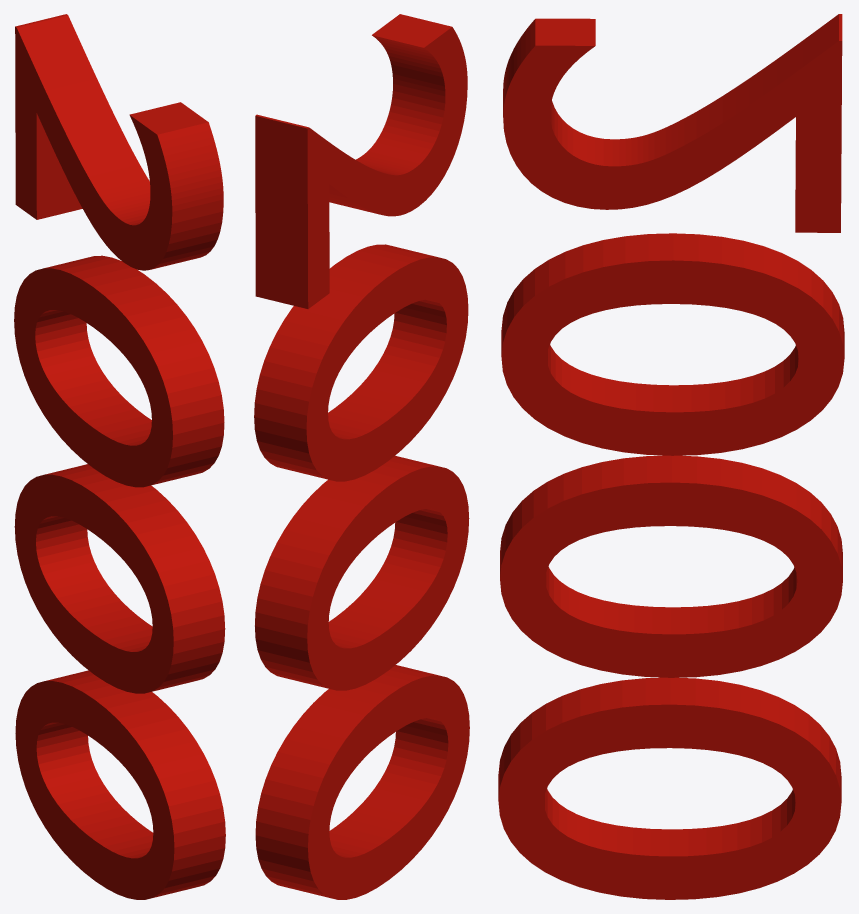
Rendered from artifact_2000.obj.
3 renders of one model, left to right at view 1: azimuth 30°, elevation 25°; view 2: azimuth 150°, elevation 25°; view 3: azimuth 270°, elevation 25°, orthographic. The views are drawn at different scales.
Parts seen in each view (by area): view 1: Text_Mesh.002; view 2: Text_Mesh.002; view 3: Text_Mesh.002.
Part boxes in pixels (left/top/right/bottom): Text_Mesh.002: left=14, top=14, right=225, bottom=899; Text_Mesh.002: left=254, top=14, right=469, bottom=899; Text_Mesh.002: left=498, top=14, right=844, bottom=899.
Bounding box in the file's own units: 0.2494 × 3.69 × 1.35.
